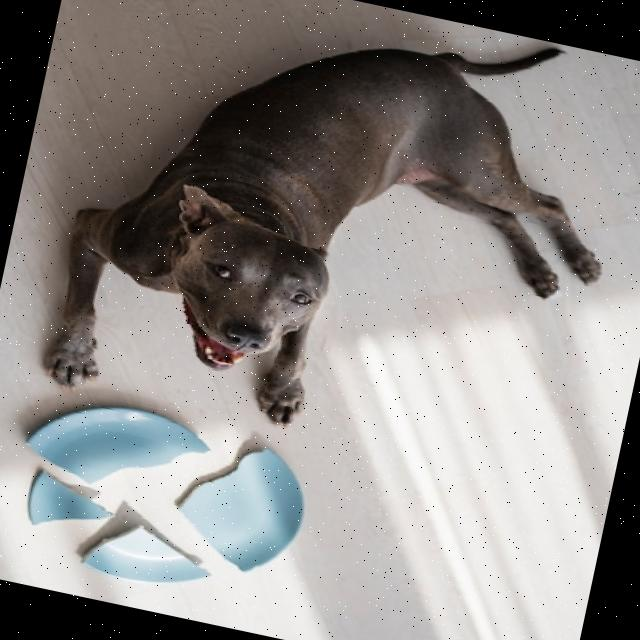Dog: (34, 0, 640, 490)
